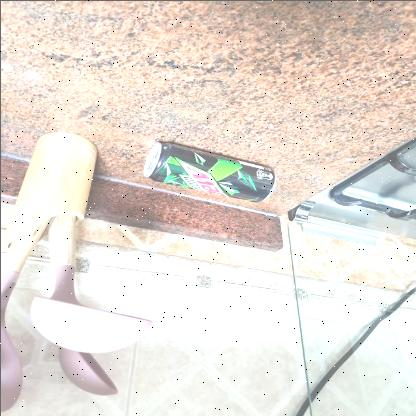Can: (139, 134, 279, 209)
